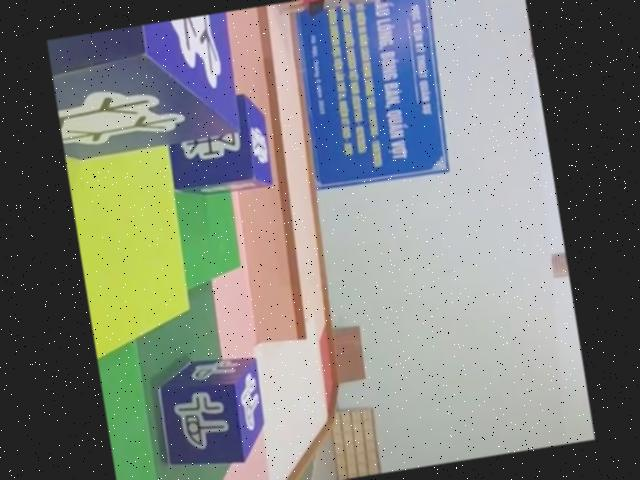R2 Real Blue: (45, 9, 262, 161), (150, 354, 271, 478), (159, 89, 276, 203)
